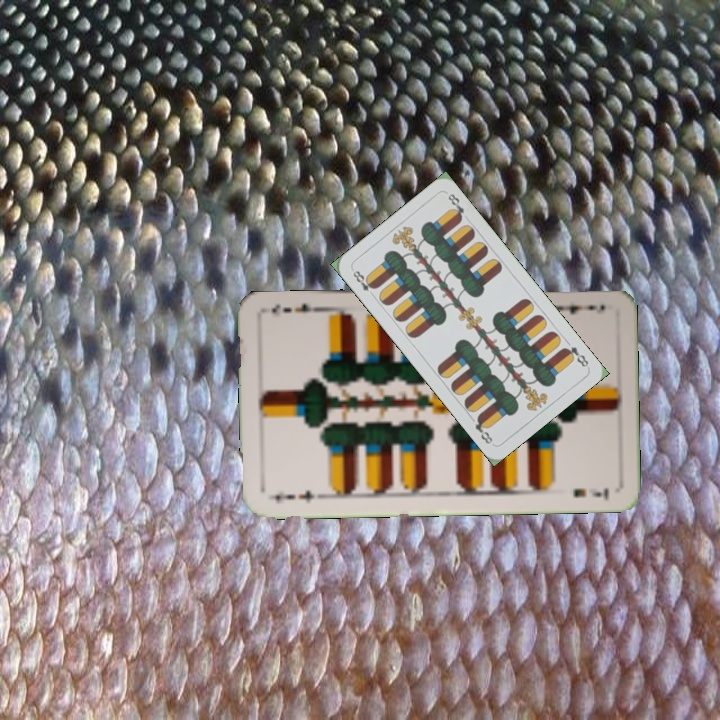E7: (270, 486, 316, 507), (552, 301, 599, 317)
E8: (348, 265, 379, 300), (559, 342, 591, 370)
